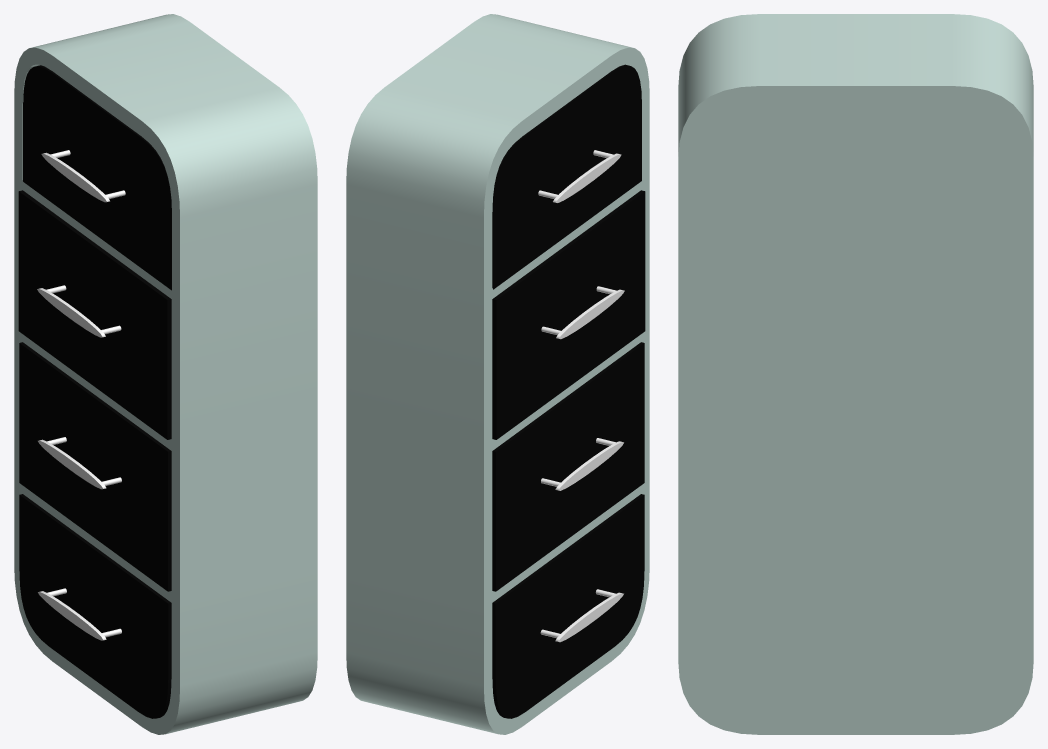
3 views of the same model, side by side, from view 1: azimuth 30°, elevation 25°; view 2: azimuth 150°, elevation 25°; view 3: azimuth 270°, elevation 25° (orthographic). The views are drawn at different scales.
Parts seen in each view (by area): view 1: Frame, Drawer2.001, DrawerMiddle, DrawerBottom, DrawerTop; view 2: Frame, Drawer2.001, DrawerMiddle, DrawerBottom, DrawerTop; view 3: Frame.
Boxes of the visible parts, <box> form: Frame: <box>14,14,317,734</box>; Drawer2.001: <box>18,190,171,439</box>; DrawerMiddle: <box>19,342,171,591</box>; DrawerBottom: <box>19,494,171,718</box>; DrawerTop: <box>23,65,171,290</box>; Frame: <box>346,14,649,734</box>; Drawer2.001: <box>492,190,645,439</box>; DrawerMiddle: <box>492,342,644,591</box>; DrawerBottom: <box>492,494,644,718</box>; DrawerTop: <box>492,64,641,289</box>; Frame: <box>678,14,1033,734</box>.
Bounding box in the file's own units: 114 × 404 × 200.
